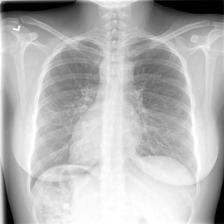normal: (23, 30, 204, 219)
